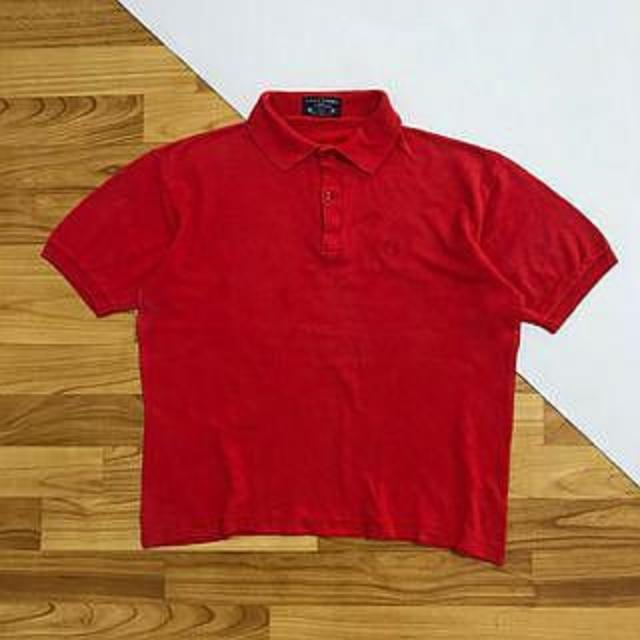T_SHIRT: (27, 58, 636, 568)
